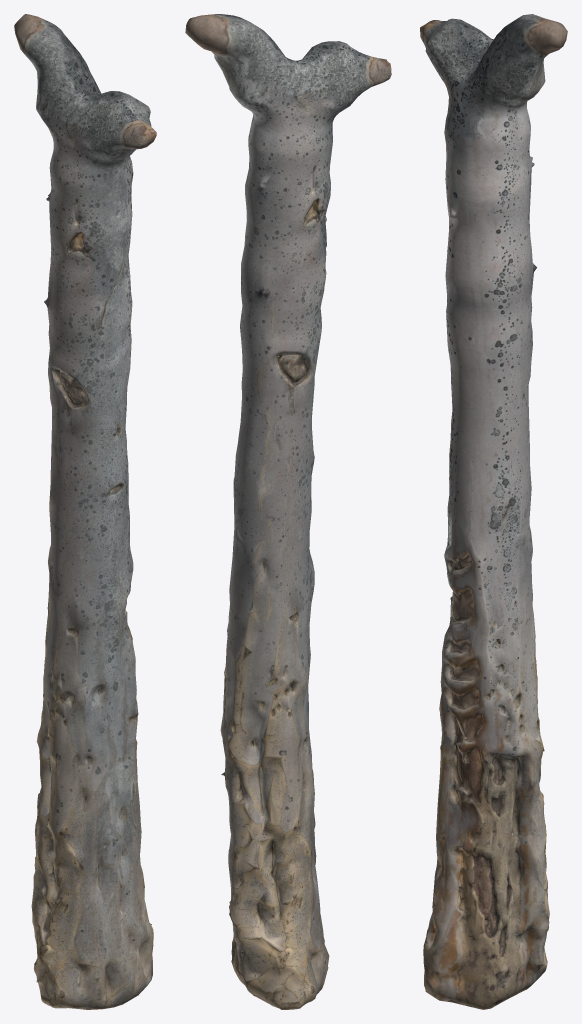
Rendered from dead_quiver_trunk.glb.
3 views of the same model, side by side, from view 1: azimuth 90°, elevation 25°; view 2: azimuth 150°, elevation 25°; view 3: azimuth 270°, elevation 25° (orthographic). The views are drawn at different scales.
Visible parts, largest first — view 1: dead_quiver_trunk_LOD0; view 2: dead_quiver_trunk_LOD0; view 3: dead_quiver_trunk_LOD0.
Part boxes in pixels (x1,y1,x2,y2): dead_quiver_trunk_LOD0: (14,14,156,1009); dead_quiver_trunk_LOD0: (185,14,391,1009); dead_quiver_trunk_LOD0: (420,14,567,1009).
Bounding box in the file's own units: 0.3065 × 1.99 × 0.268.
Materials: 1 (1 with a texture image).
